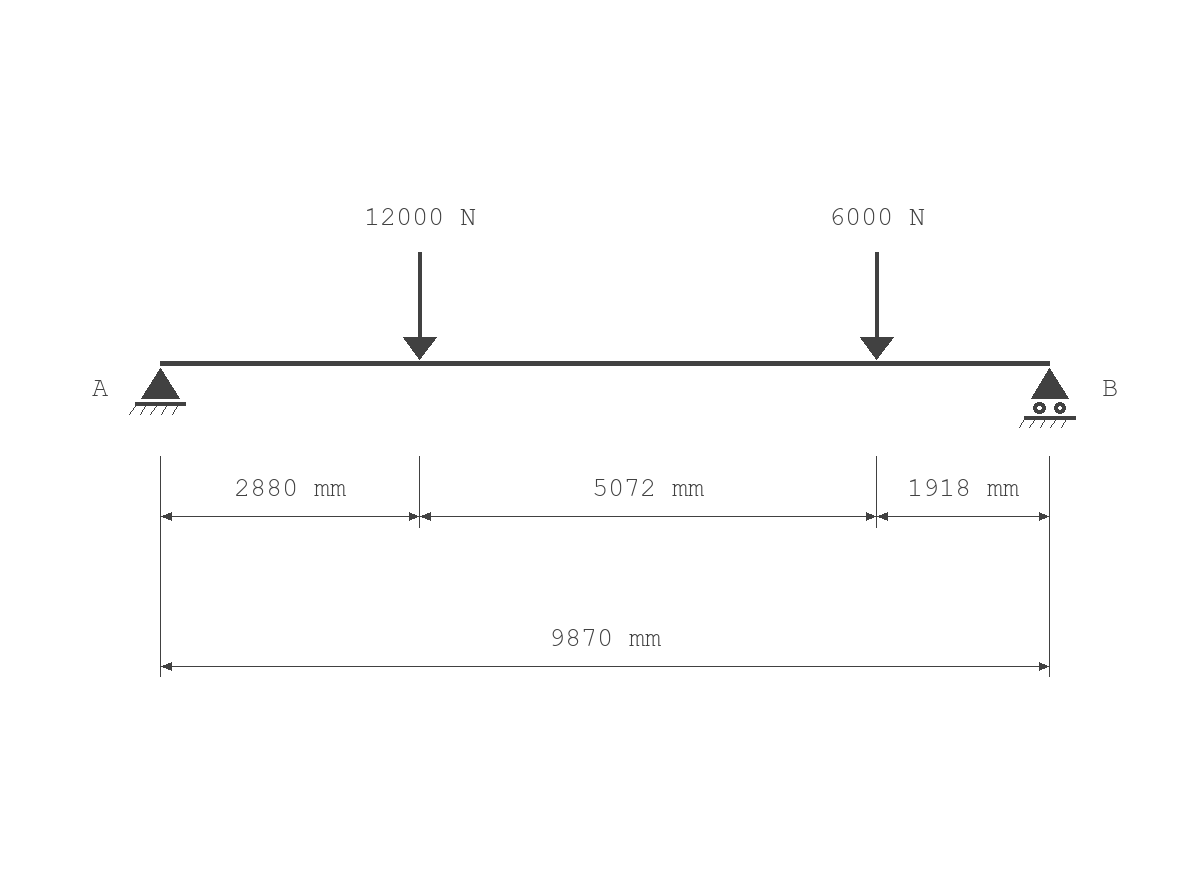pin_support: (129, 368, 186, 415)
point_load: (403, 252, 437, 360), (860, 252, 894, 360)
roller_support: (1019, 368, 1076, 428)
